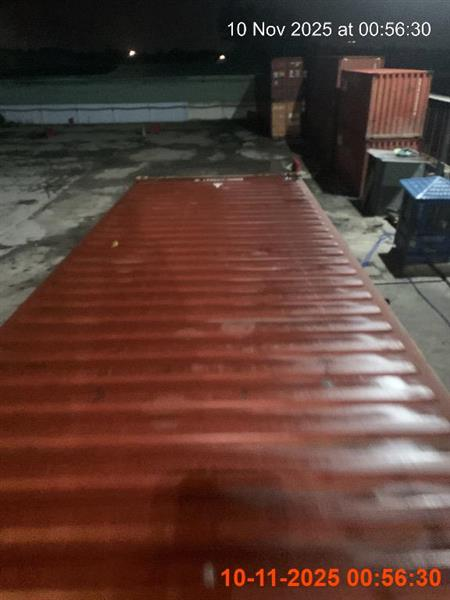broken: (0, 169, 449, 596)
